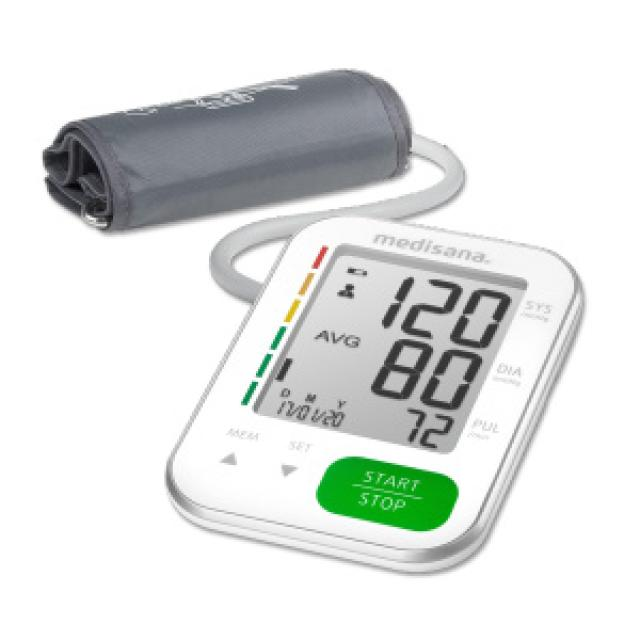dia: (353, 324, 491, 416)
pul: (385, 397, 462, 462)
ssd: (253, 233, 530, 466)
sys: (365, 260, 527, 361)
